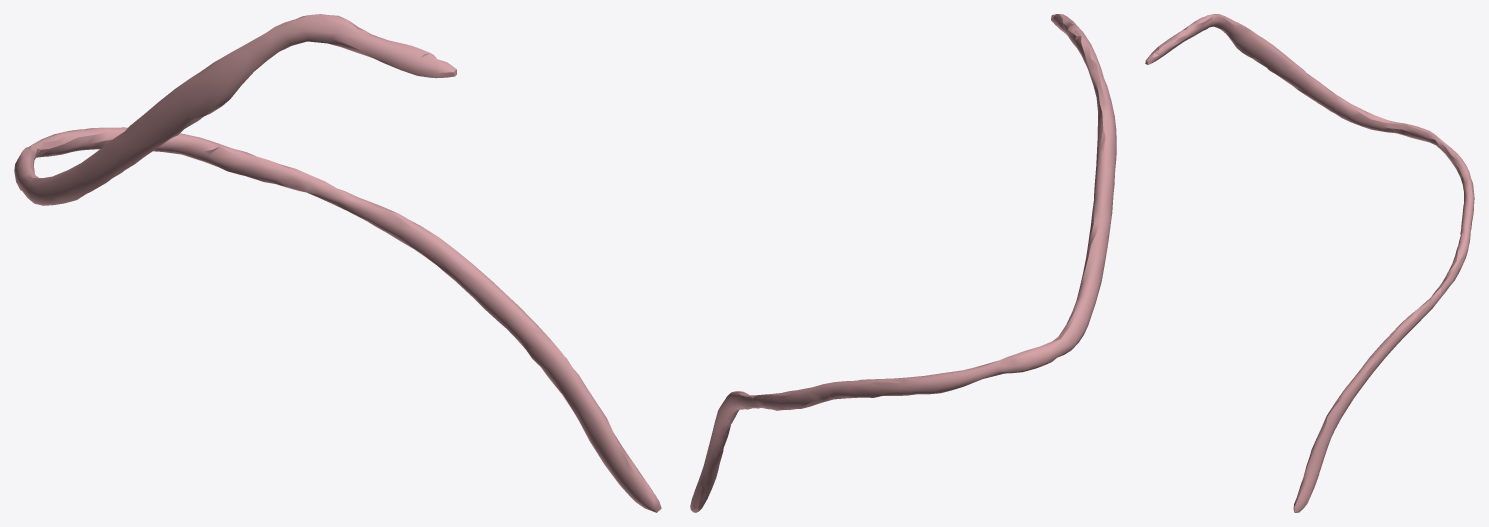
The model's file is fma9482_mm583.glb.
The picture shows the model from 3 angles, left to right: view 1: azimuth 30°, elevation 25°; view 2: azimuth 150°, elevation 25°; view 3: azimuth 270°, elevation 25°; orthographic projection. The views are drawn at different scales.
Parts seen in each view (by area): view 1: FMA9482_MM583; view 2: FMA9482_MM583; view 3: FMA9482_MM583.
Boxes of the visible parts, left/top/right/bottom form: FMA9482_MM583: left=14, top=14, right=661, bottom=512; FMA9482_MM583: left=690, top=14, right=1116, bottom=512; FMA9482_MM583: left=1145, top=14, right=1474, bottom=512.
Size of the model in its own units: 0.0412 by 0.0461 by 0.0361.
